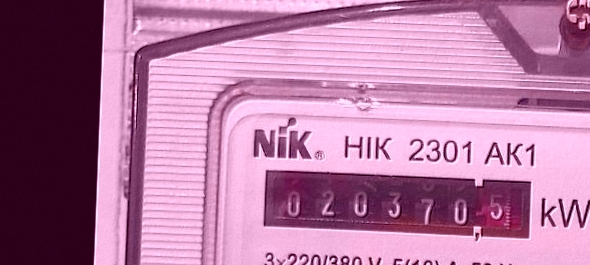0: (452, 196, 471, 227), (285, 188, 303, 218), (353, 189, 369, 217)
2: (319, 187, 338, 219)
3: (386, 189, 403, 219)
5: (488, 191, 507, 223)
7: (419, 196, 435, 227)
screen: (256, 163, 541, 249)
